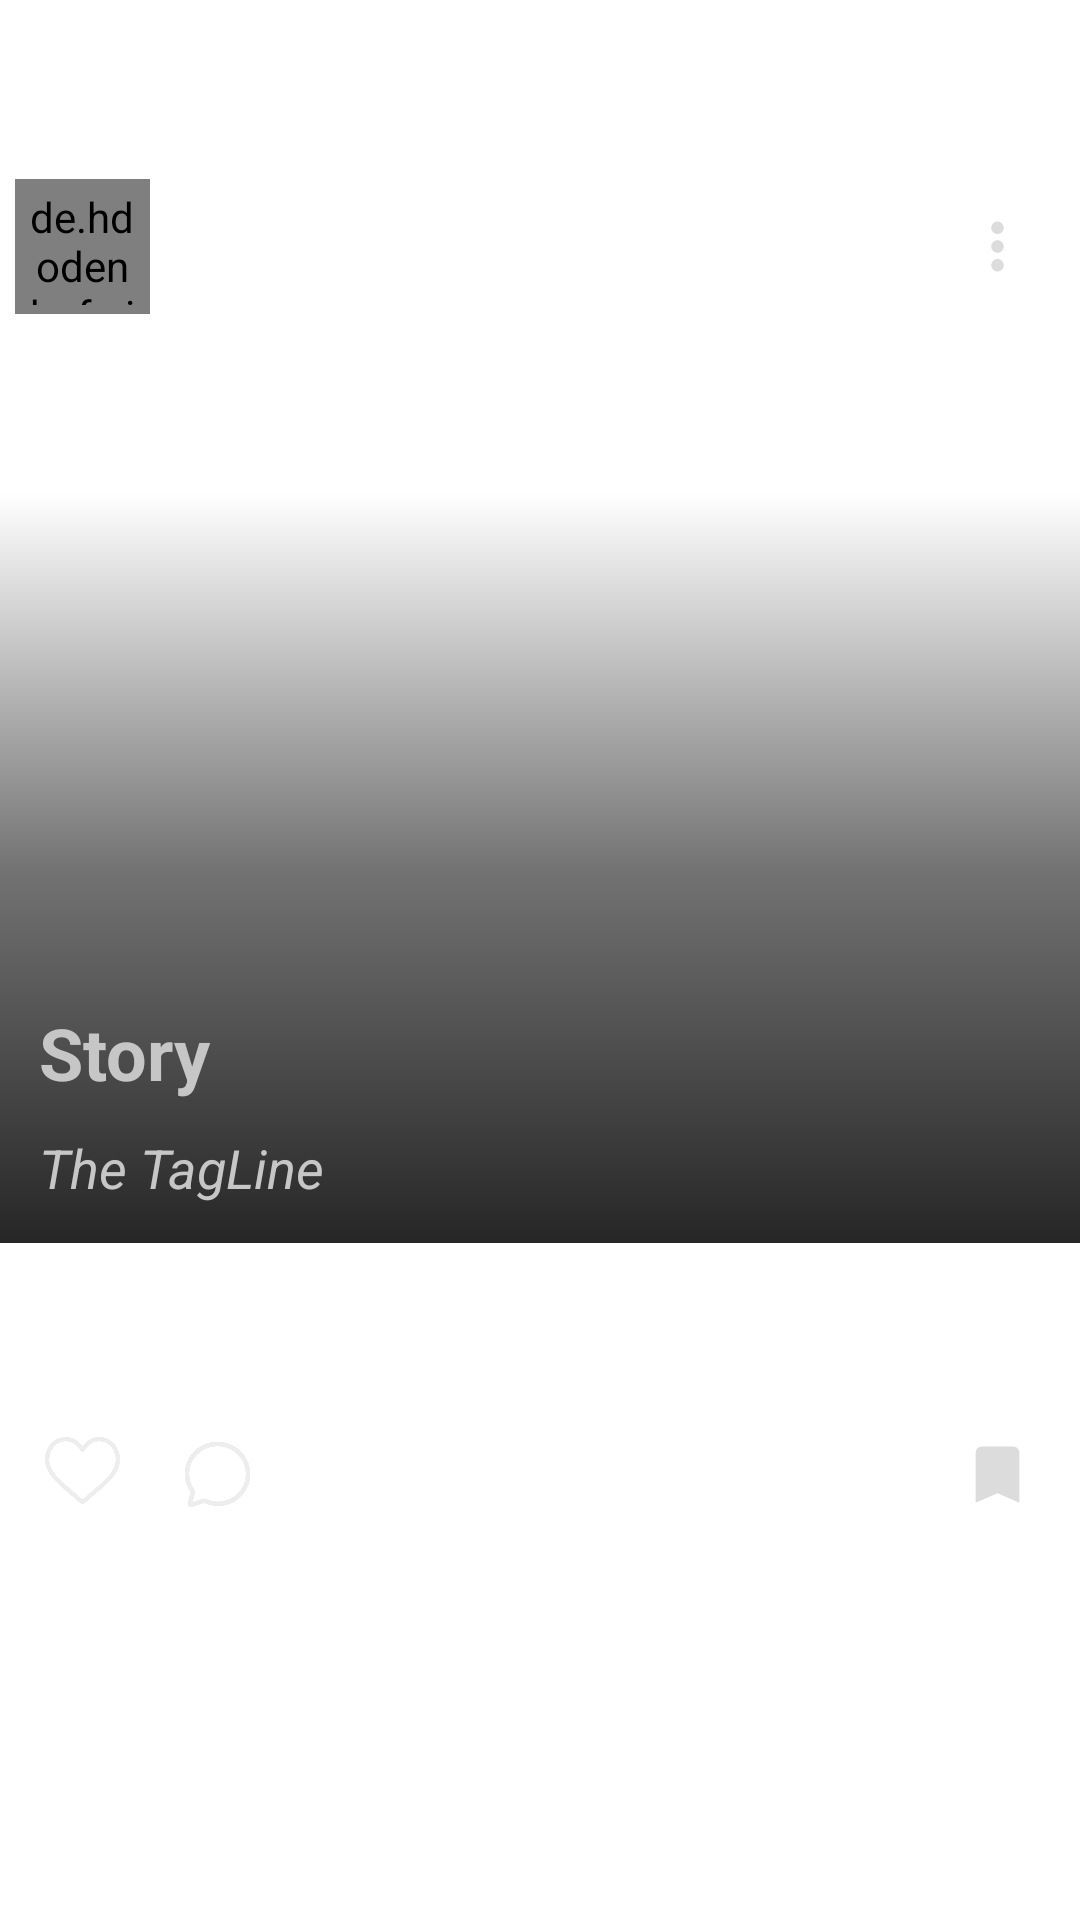

Where to tap for icons on this 1080w x 1920h app screen, as point (x, y):
more vert: point (997, 246)
saved: point (997, 1474)
